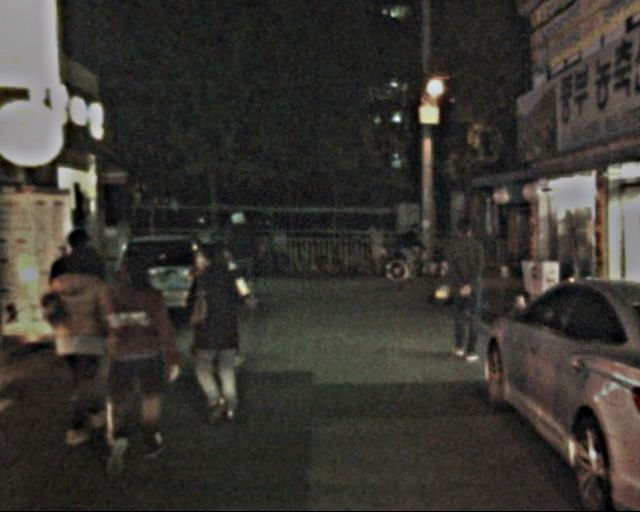person: (91, 245, 182, 467), (42, 247, 129, 445), (176, 237, 253, 426), (48, 228, 116, 391), (435, 217, 495, 364), (221, 210, 261, 309), (395, 223, 426, 283)
